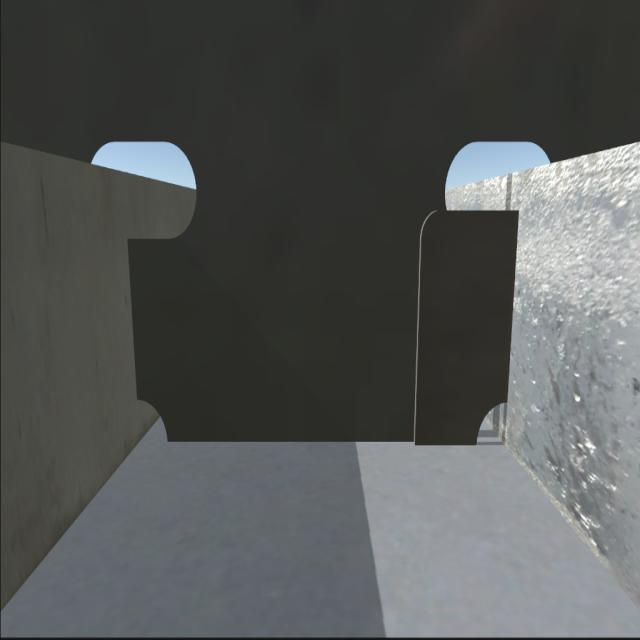fillet_hole: (135, 396, 170, 448), (474, 400, 508, 444)
fillet_yong_jeop_jang: (166, 433, 478, 451)
longi_yong_jeop_jang: (502, 210, 519, 400), (124, 241, 144, 395)
plate_CP05: (415, 203, 516, 444)
